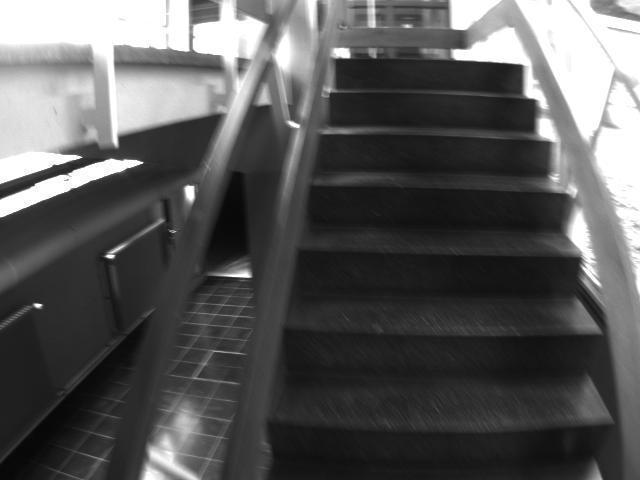Escaleras: (210, 17, 619, 475)
